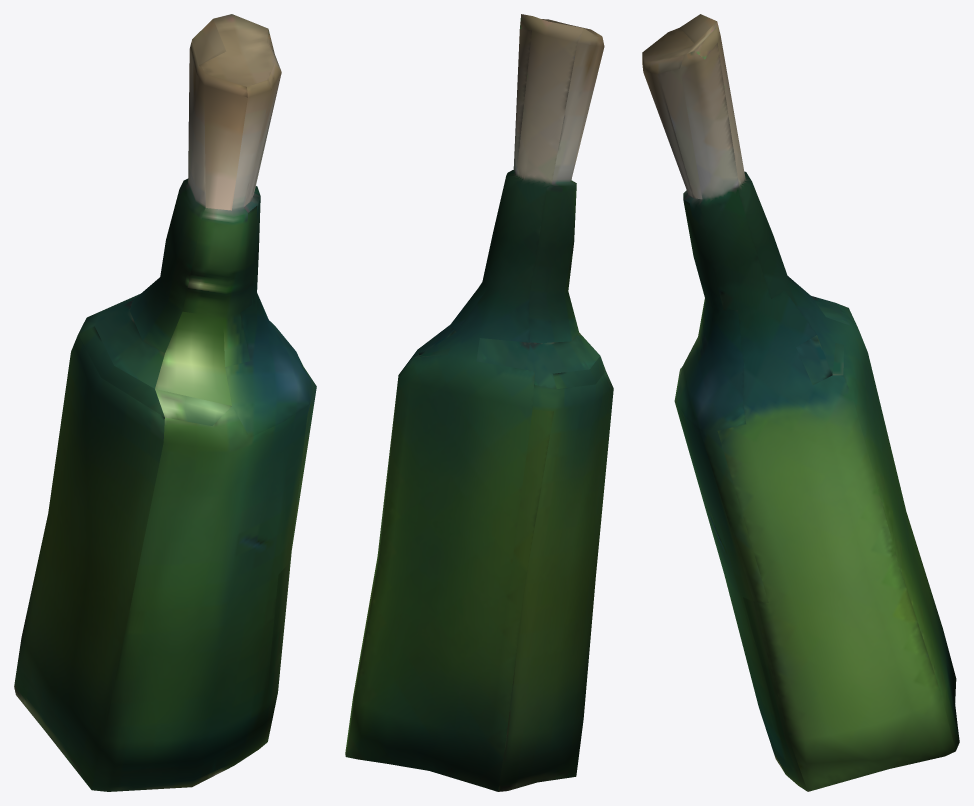
The model's file is botella.glb.
3 renders of one model, left to right at view 1: azimuth 30°, elevation 25°; view 2: azimuth 150°, elevation 25°; view 3: azimuth 270°, elevation 25°, orthographic. The views are drawn at different scales.
Visible parts, largest first — view 1: fish_MessageInABottle; view 2: fish_MessageInABottle; view 3: fish_MessageInABottle.
Part boxes in pixels (left/top/right/bottom): fish_MessageInABottle: left=14, top=14, right=316, bottom=791; fish_MessageInABottle: left=345, top=14, right=613, bottom=791; fish_MessageInABottle: left=642, top=14, right=959, bottom=791.
Size of the model in its own units: 0.1233 by 0.4807 by 0.1886.
Materials: 1 (1 with a texture image).
